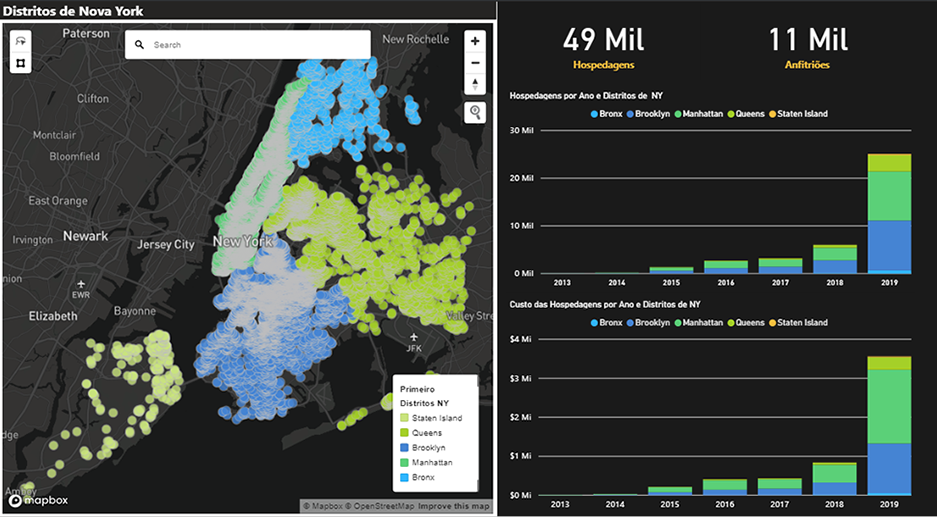

Layout of this report page (visuals, bound fields, positions):
{"tool":"powerbi","page":{"name":"airbnb_NY","canvas":[1280,720],"ordinal":0},"visuals":[{"type":"card","fields":{"Values":["Métricas.Hospedagens"]},"box":[708.9,3.6,271.9,105.7],"z":0},{"type":"columnChart","title":"Hospedagens por Ano e Distritos de  NY","fields":{"Category":["dCalendario.Ano"],"Series":["AB_NYC_2019.neighbourhood_group"],"Y":["Métricas.n_hospedagens"]},"box":[708.9,123.5,571.1,282.6],"z":1000},{"type":"columnChart","title":"Custo das Hospedagens por Ano e Distritos de NY","fields":{"Category":["dCalendario.Ano"],"Series":["AB_NYC_2019.neighbourhood_group"],"Y":["Métricas.sum_price"]},"box":[708.9,415.6,571.1,304],"z":2000},{"type":"card","fields":{"Values":["Métricas.n_host"]},"box":[995,3.6,267.2,105.7],"z":3000},{"type":"PBI_CV_EB3A4088_75C5_4746_9D8B_255A7B7ECD6C","title":"Distritos de Nova York","fields":{"latitude":["AB_NYC_2019.latitude"],"longitude":["AB_NYC_2019.longitude"],"color":["Min(AB_NYC_2019.neighbourhood_group)"],"tooltips":["Min(AB_NYC_2019.neighbourhood)"]},"box":[0,0,694.6,719.6],"z":4001}]}

Visuals, with their boxes in screenshot pixels (x1, y1, x2, y2), scaled from the page's 1280x720 canvas onto the 937x517 screenshot:
card - Métricas.Hospedagens: <region>519, 3, 718, 78</region>
"Hospedagens por Ano e Distritos de  NY" columnChart: <region>519, 89, 936, 292</region>
"Custo das Hospedagens por Ano e Distritos de NY" columnChart: <region>519, 298, 936, 516</region>
card - Métricas.n_host: <region>728, 3, 924, 78</region>
"Distritos de Nova York" PBI_CV_EB3A4088_75C5_4746_9D8B_255A7B7ECD6C: <region>0, 0, 508, 516</region>
